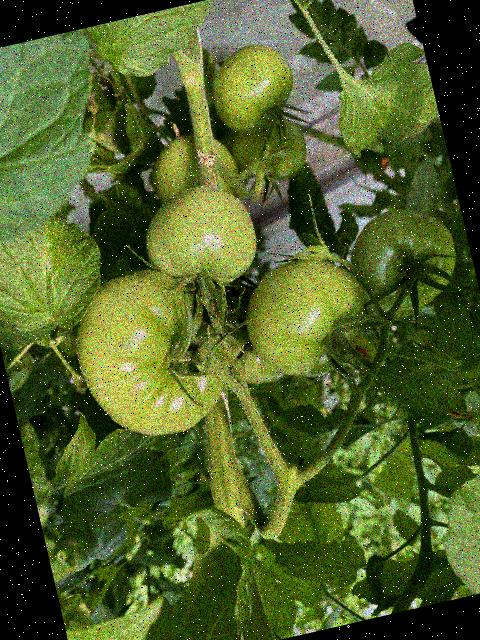b_green: (61, 256, 241, 451), (234, 247, 380, 389), (134, 175, 265, 299), (340, 197, 467, 322), (203, 36, 304, 141), (145, 125, 245, 217), (207, 281, 285, 391), (225, 112, 313, 190)
